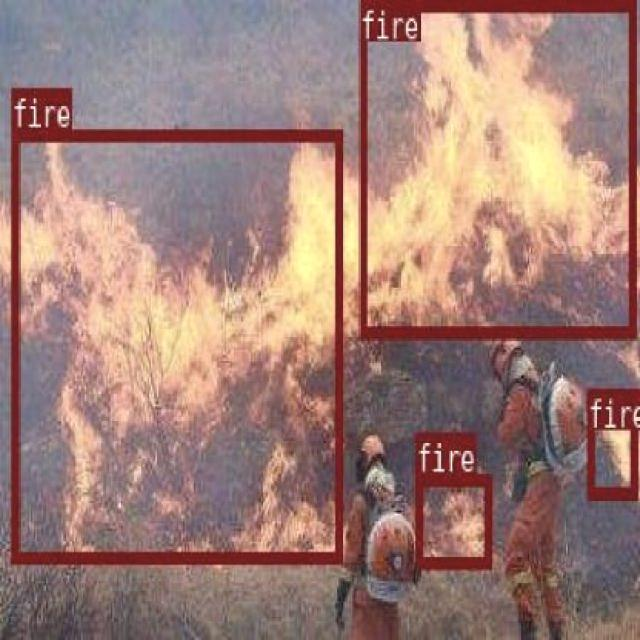fire: (10, 129, 341, 560), (357, 0, 634, 334), (414, 472, 490, 566), (587, 388, 636, 497)
